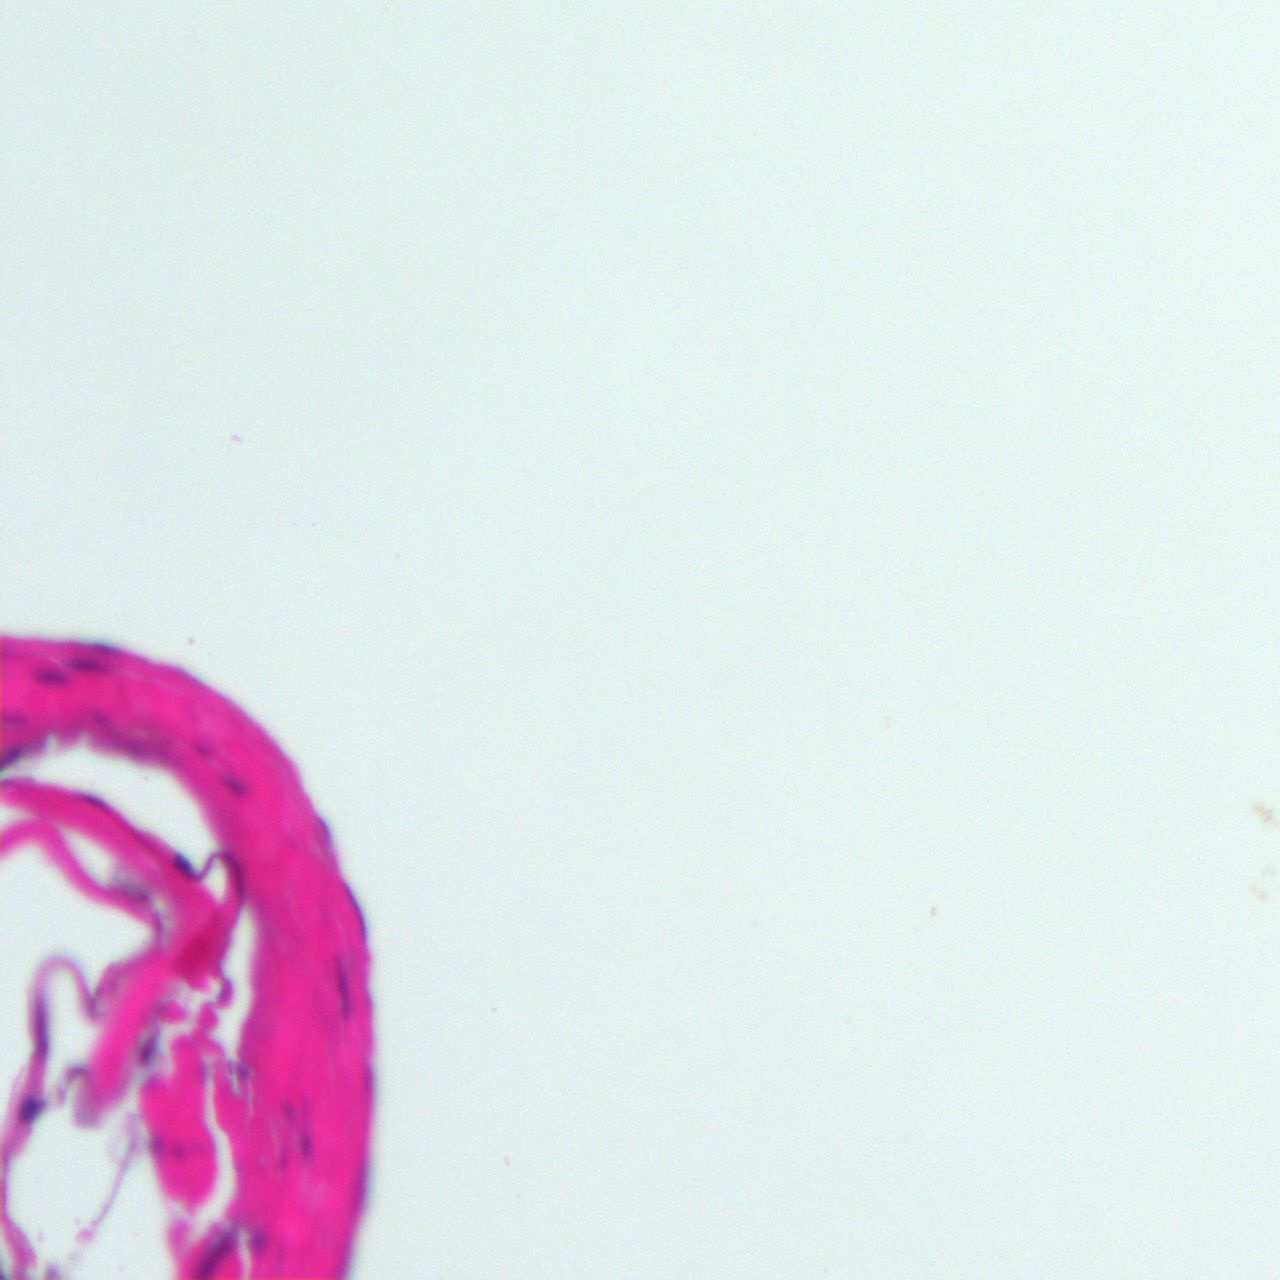nucleus-HE: (189, 1223, 239, 1280), (342, 881, 372, 941), (334, 962, 352, 1023), (68, 653, 114, 676), (33, 996, 47, 1057), (79, 792, 113, 816), (32, 666, 69, 682), (219, 770, 243, 794), (20, 1097, 40, 1121), (173, 853, 193, 874), (247, 1226, 263, 1253), (298, 1131, 311, 1158), (282, 1099, 295, 1121)
